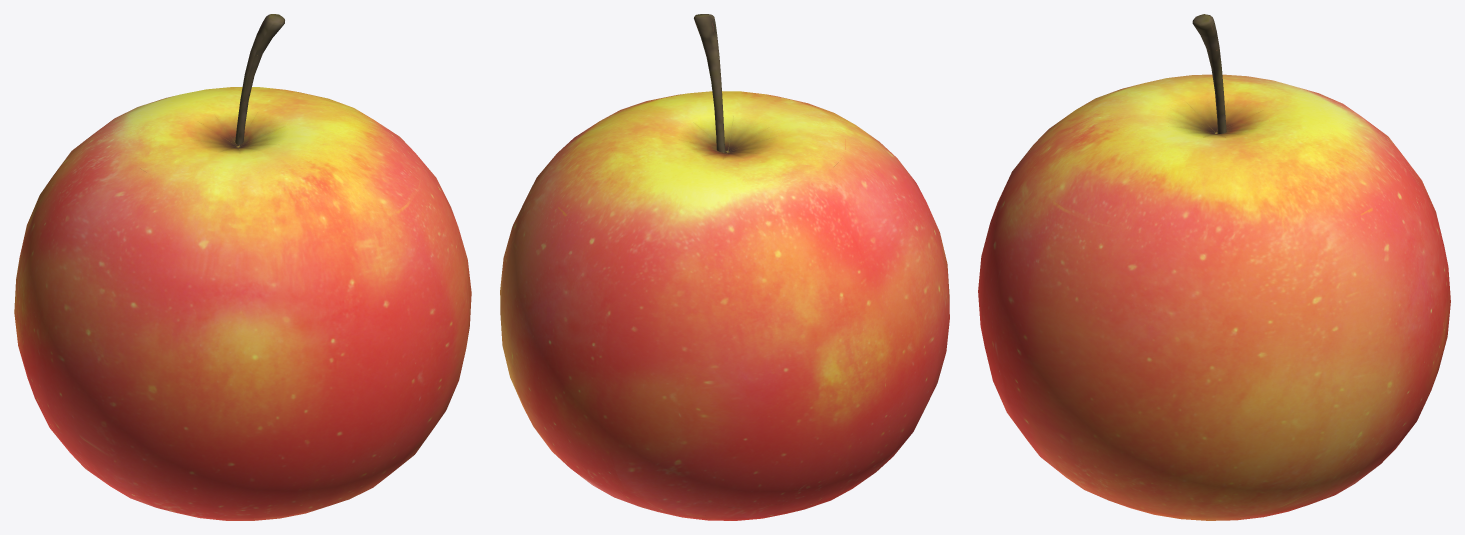
File: apple.gltf
3 renders of one model, left to right at view 1: azimuth 30°, elevation 25°; view 2: azimuth 150°, elevation 25°; view 3: azimuth 270°, elevation 25°, orthographic. The views are drawn at different scales.
Visible parts, largest first — view 1: Red apple LOD2; view 2: Red apple LOD2; view 3: Red apple LOD2.
Boxes of the visible parts, x1,y1,x2,y2 form: Red apple LOD2: (14,14,471,520); Red apple LOD2: (500,14,949,520); Red apple LOD2: (978,14,1450,520).
Bounding box in the file's own units: 0.1909 × 0.2125 × 0.191.
1 material, 1 textured.
